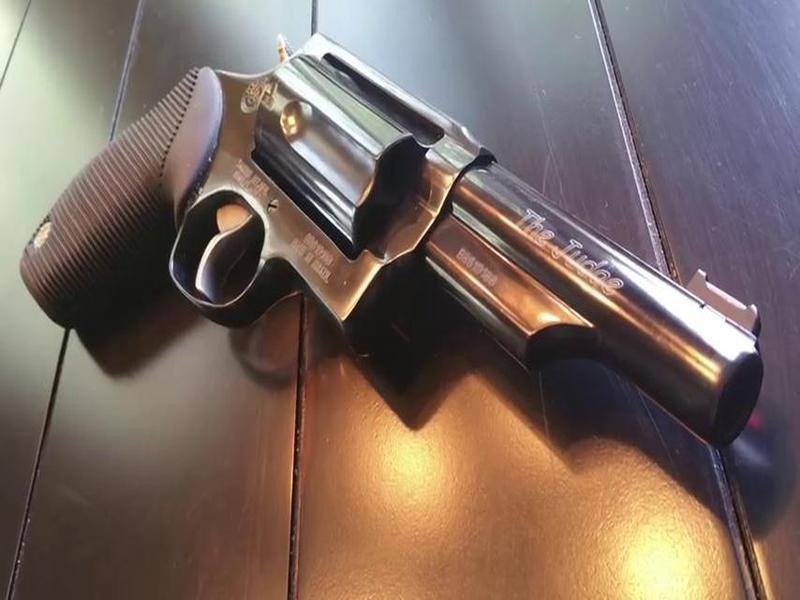Revolver: (106, 21, 761, 478)
